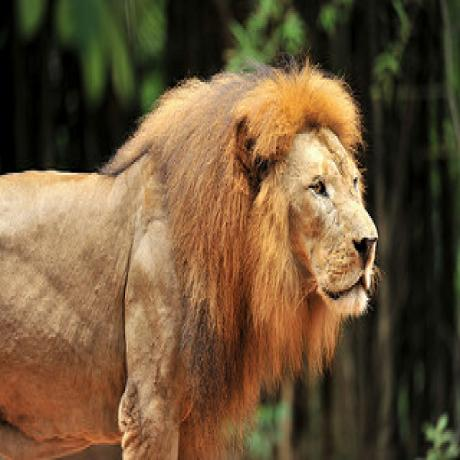Lion: (0, 56, 381, 460)
